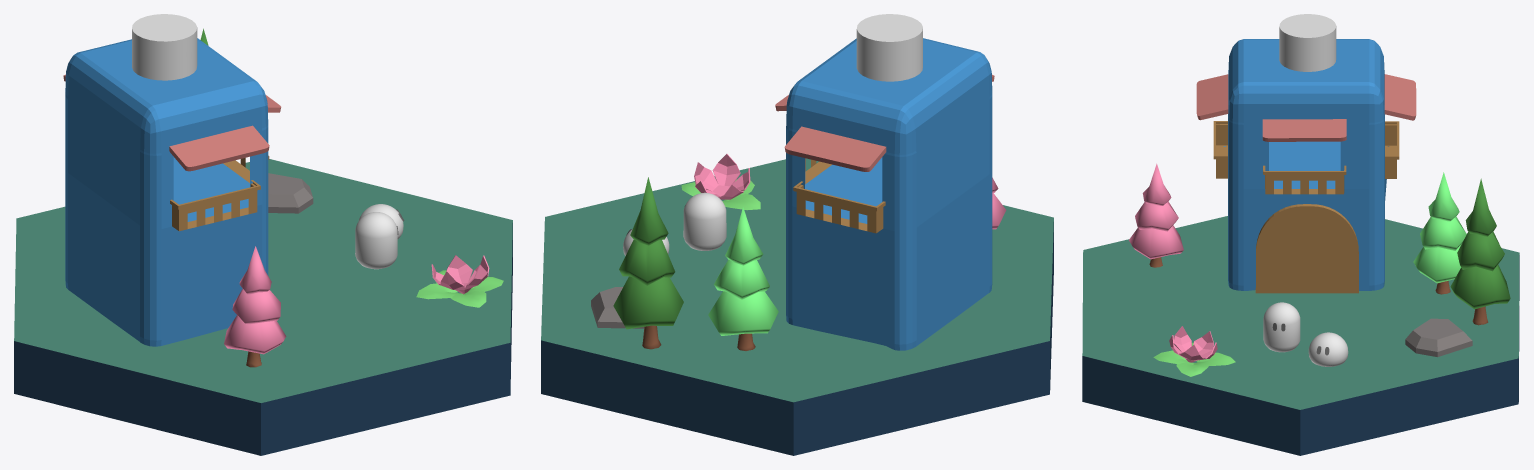
File: Macro - housing lv2.fbx
3 renders of one model, left to right at view 1: azimuth 30°, elevation 25°; view 2: azimuth 150°, elevation 25°; view 3: azimuth 270°, elevation 25°, orthographic. The views are drawn at different scales.
Visible parts, largest first — view 1: Cylinder.154, Roundcube, bottle.003, Tree_Spruce_tiny_01.003, Plane.066, Plane.064, Sphere.001, Rock Type4 04 mesh.002, pink_water_lily_2_open.002, Plane.001; view 2: Cylinder.154, Roundcube, Tree_Spruce_tiny_01.001, Tree_Spruce_tiny_01.002, bottle.003, Plane.067, Plane.063, Sphere.001, pink_water_lily_2_open.002, Rock Type4 04 mesh.002, Plane.001; view 3: Cylinder.154, Roundcube, Cube.011, Tree_Spruce_tiny_01.001, Tree_Spruce_tiny_01.002, bottle.003, Tree_Spruce_tiny_01.003, Plane.065, Rock Type4 04 mesh.002, Plane.062, Sphere.001, Plane.067 (+6 smaller).
Boxes of the visible parts, left/top/right/bottom form: Cylinder.154: left=14, top=159, right=512, bottom=455; Roundcube: left=65, top=38, right=268, bottom=346; bottle.003: left=132, top=14, right=197, bottom=80; Tree_Spruce_tiny_01.003: left=224, top=246, right=286, bottom=367; Plane.066: left=169, top=125, right=269, bottom=171; Plane.064: left=170, top=180, right=260, bottom=231; Sphere.001: left=355, top=212, right=397, bottom=269; Rock Type4 04 mesh.002: left=268, top=173, right=313, bottom=213; pink_water_lily_2_open.002: left=431, top=255, right=489, bottom=294; Plane.001: left=416, top=270, right=503, bottom=307; Cylinder.154: left=541, top=158, right=1053, bottom=455; Roundcube: left=786, top=38, right=992, bottom=350; Tree_Spruce_tiny_01.001: left=613, top=177, right=683, bottom=349; Tree_Spruce_tiny_01.002: left=708, top=207, right=778, bottom=350; bottle.003: left=856, top=14, right=922, bottom=81; Plane.067: left=784, top=126, right=886, bottom=171; Plane.063: left=793, top=181, right=885, bottom=233; Sphere.001: left=683, top=192, right=726, bottom=250; pink_water_lily_2_open.002: left=694, top=154, right=750, bottom=199; Rock Type4 04 mesh.002: left=591, top=287, right=644, bottom=328; Plane.001: left=681, top=179, right=760, bottom=210; Cylinder.154: left=1082, top=216, right=1519, bottom=455; Roundcube: left=1223, top=39, right=1388, bottom=290; Cube.011: left=1255, top=204, right=1358, bottom=293; Tree_Spruce_tiny_01.001: left=1450, top=178, right=1510, bottom=325; Tree_Spruce_tiny_01.002: left=1413, top=172, right=1466, bottom=294; bottle.003: left=1279, top=14, right=1336, bottom=71; Tree_Spruce_tiny_01.003: left=1129, top=163, right=1183, bottom=267; Plane.065: left=1262, top=119, right=1346, bottom=141; Rock Type4 04 mesh.002: left=1405, top=318, right=1472, bottom=357; Plane.062: left=1263, top=165, right=1346, bottom=194; Sphere.001: left=1263, top=302, right=1300, bottom=352; Plane.067: left=1384, top=74, right=1416, bottom=120.
Bounding box in the file's own units: 197 × 123 × 172.
